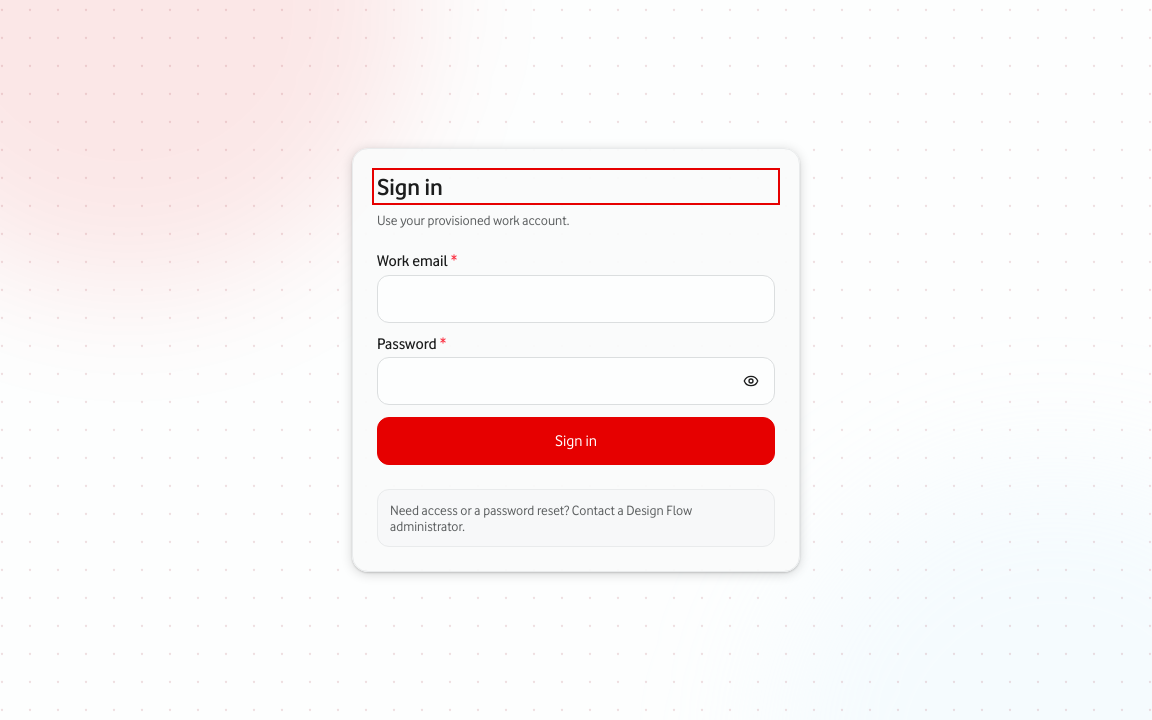
Test: authenticated application routing › uses a generic sign-in error and preserves the entered email
The image size is (1152, 720).
Expected: the heading "Sign in" is shown, x1=377 y1=173 x2=443 y2=200
In the field labelled "Work email *": coordinates (576, 299) x1=377 y1=275 x2=775 y2=323, type "unknown@example.invalid"
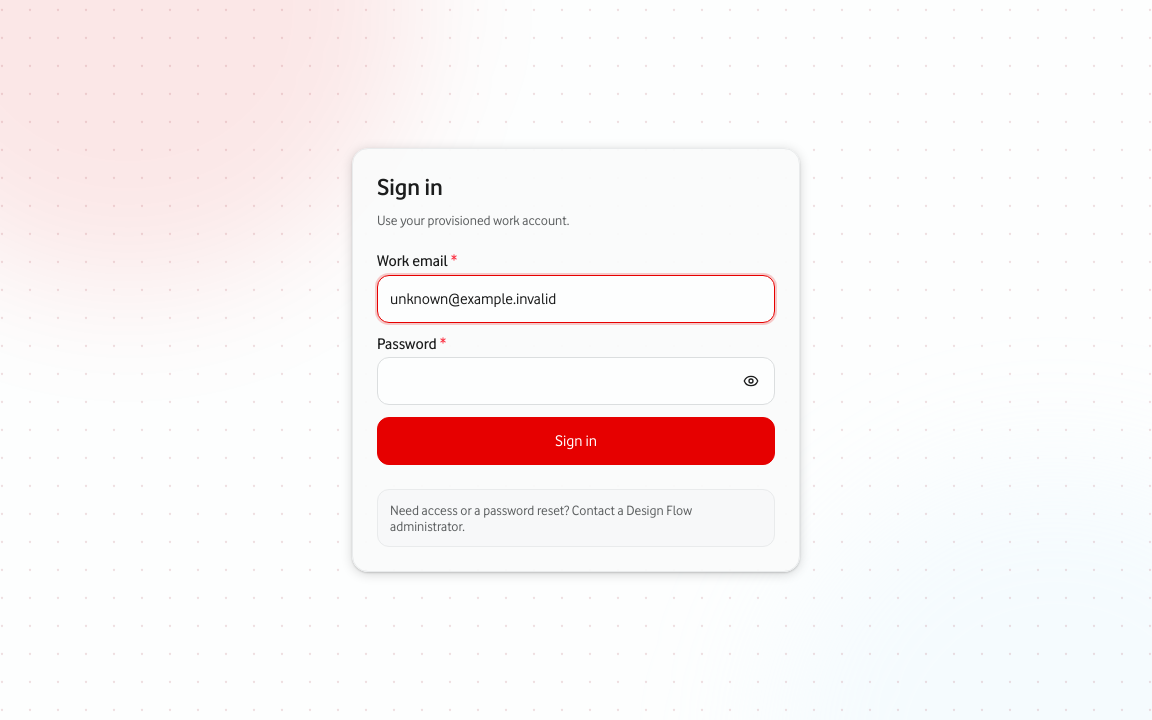
In the password field labelled "Password *": coordinates (576, 381) x1=377 y1=357 x2=775 y2=405, type "Unknown!Pass2026"
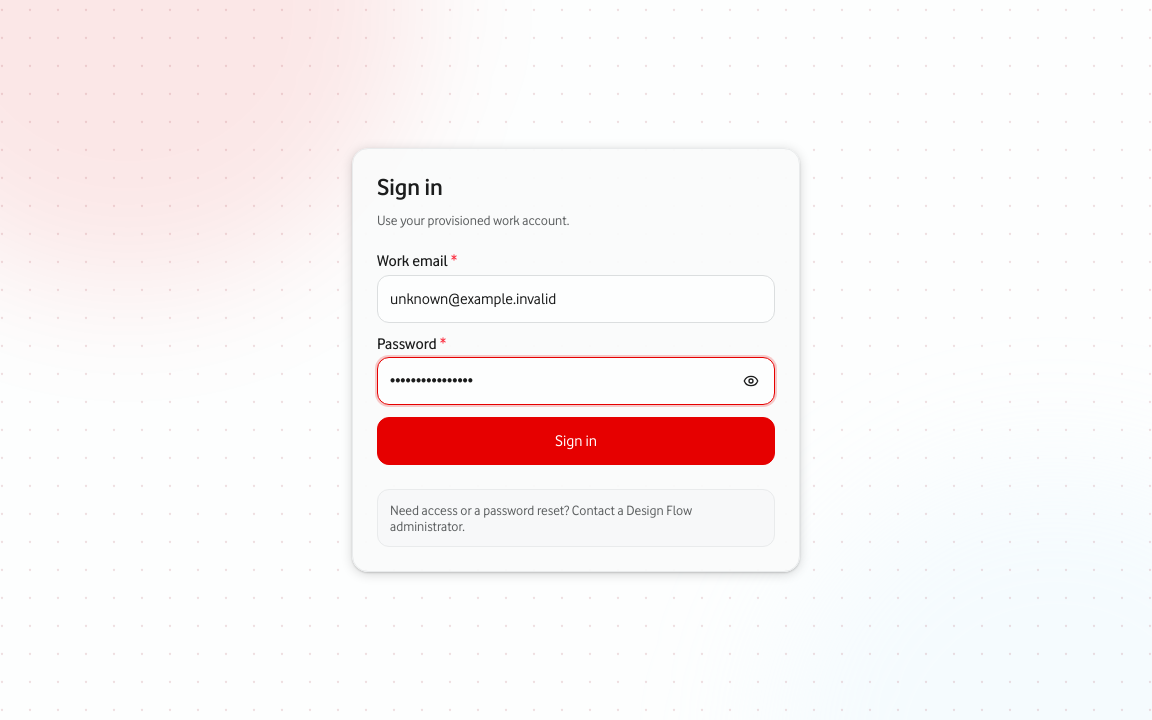
Click the button "Sign in": coordinates (576, 441) x1=377 y1=417 x2=775 y2=465
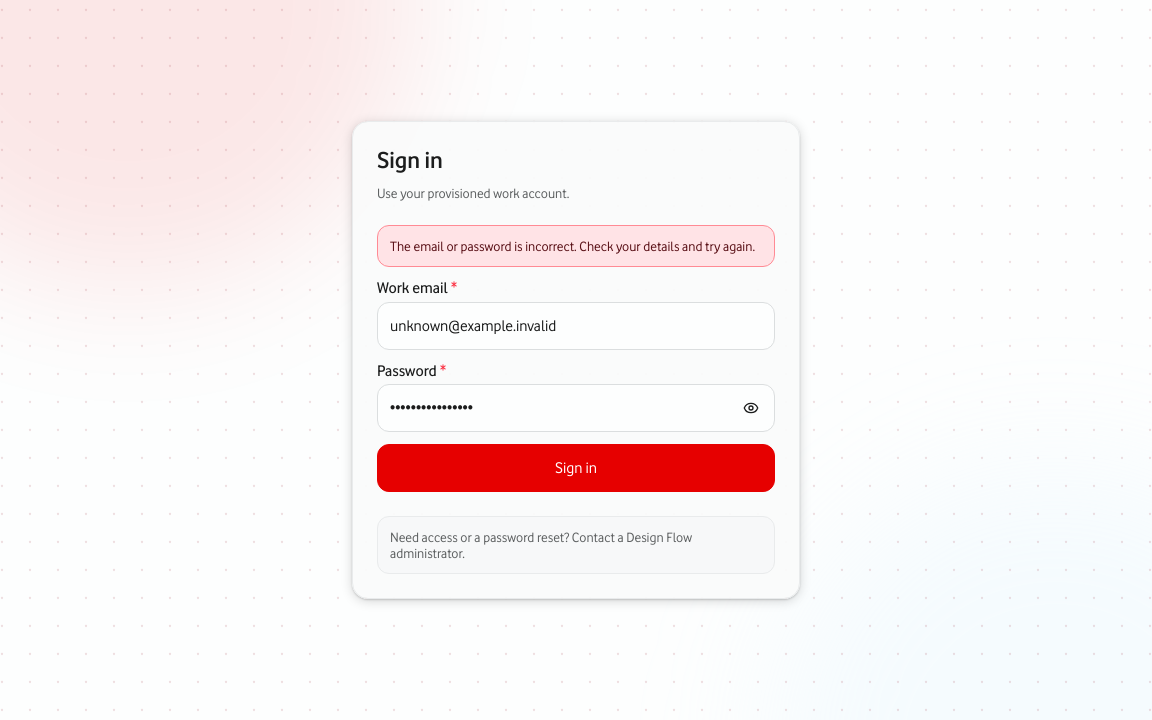
Expected: the text "The email or password is incorrect. Check your details and try again." is shown, x1=377 y1=225 x2=775 y2=267
